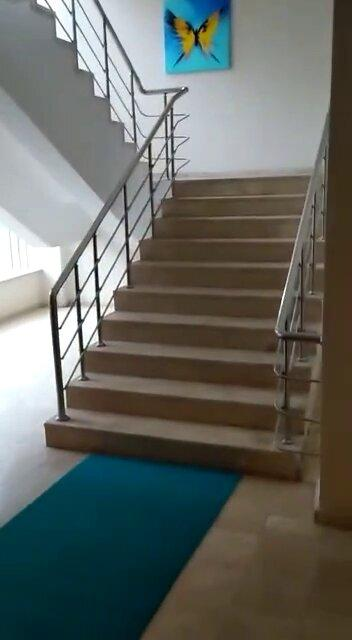Bench: (43, 162, 316, 470)
